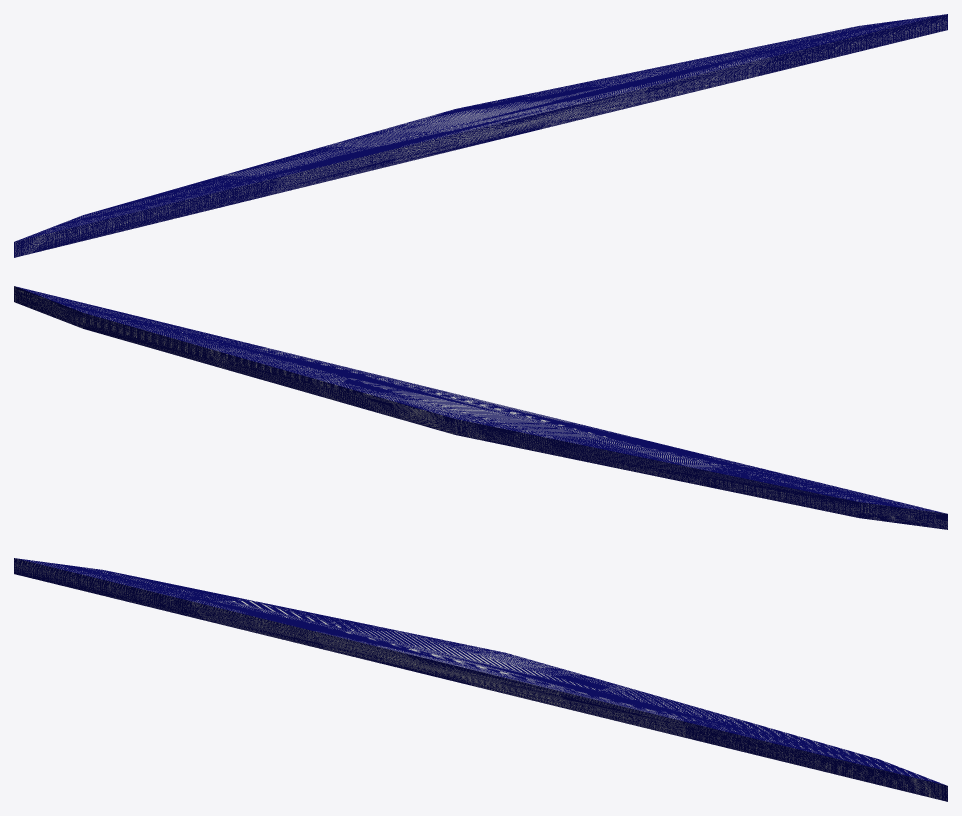
The model's file is original-22.obj.
3 views of the same model, one above another, from view 1: azimuth 30°, elevation 25°; view 2: azimuth 150°, elevation 25°; view 3: azimuth 330°, elevation 25° (orthographic).
Parts seen in each view (by area): view 1: #ID144; view 2: #ID144; view 3: #ID144.
Part boxes in pixels (x1=…): #ID144: x1=14, y1=14, x2=947, y2=257; #ID144: x1=14, y1=286, x2=947, y2=529; #ID144: x1=14, y1=558, x2=947, y2=801.
Bounding box in the file's own units: 0.133 × 0.00219 × 0.00639.
